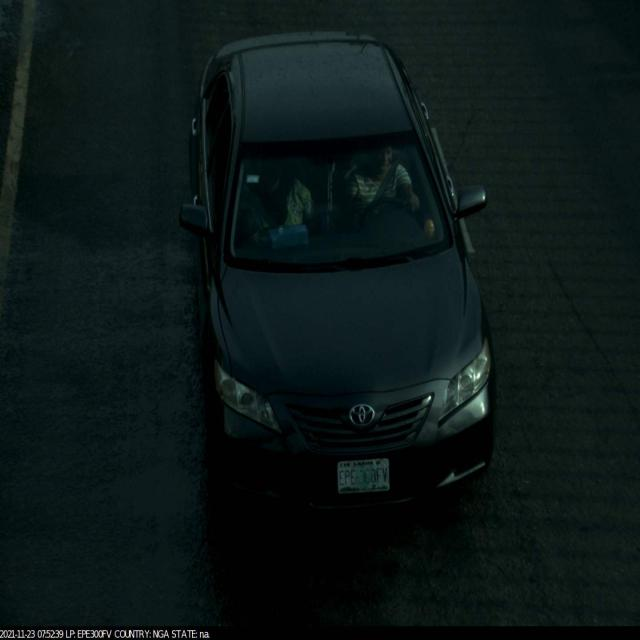windshield: (222, 124, 458, 279)
